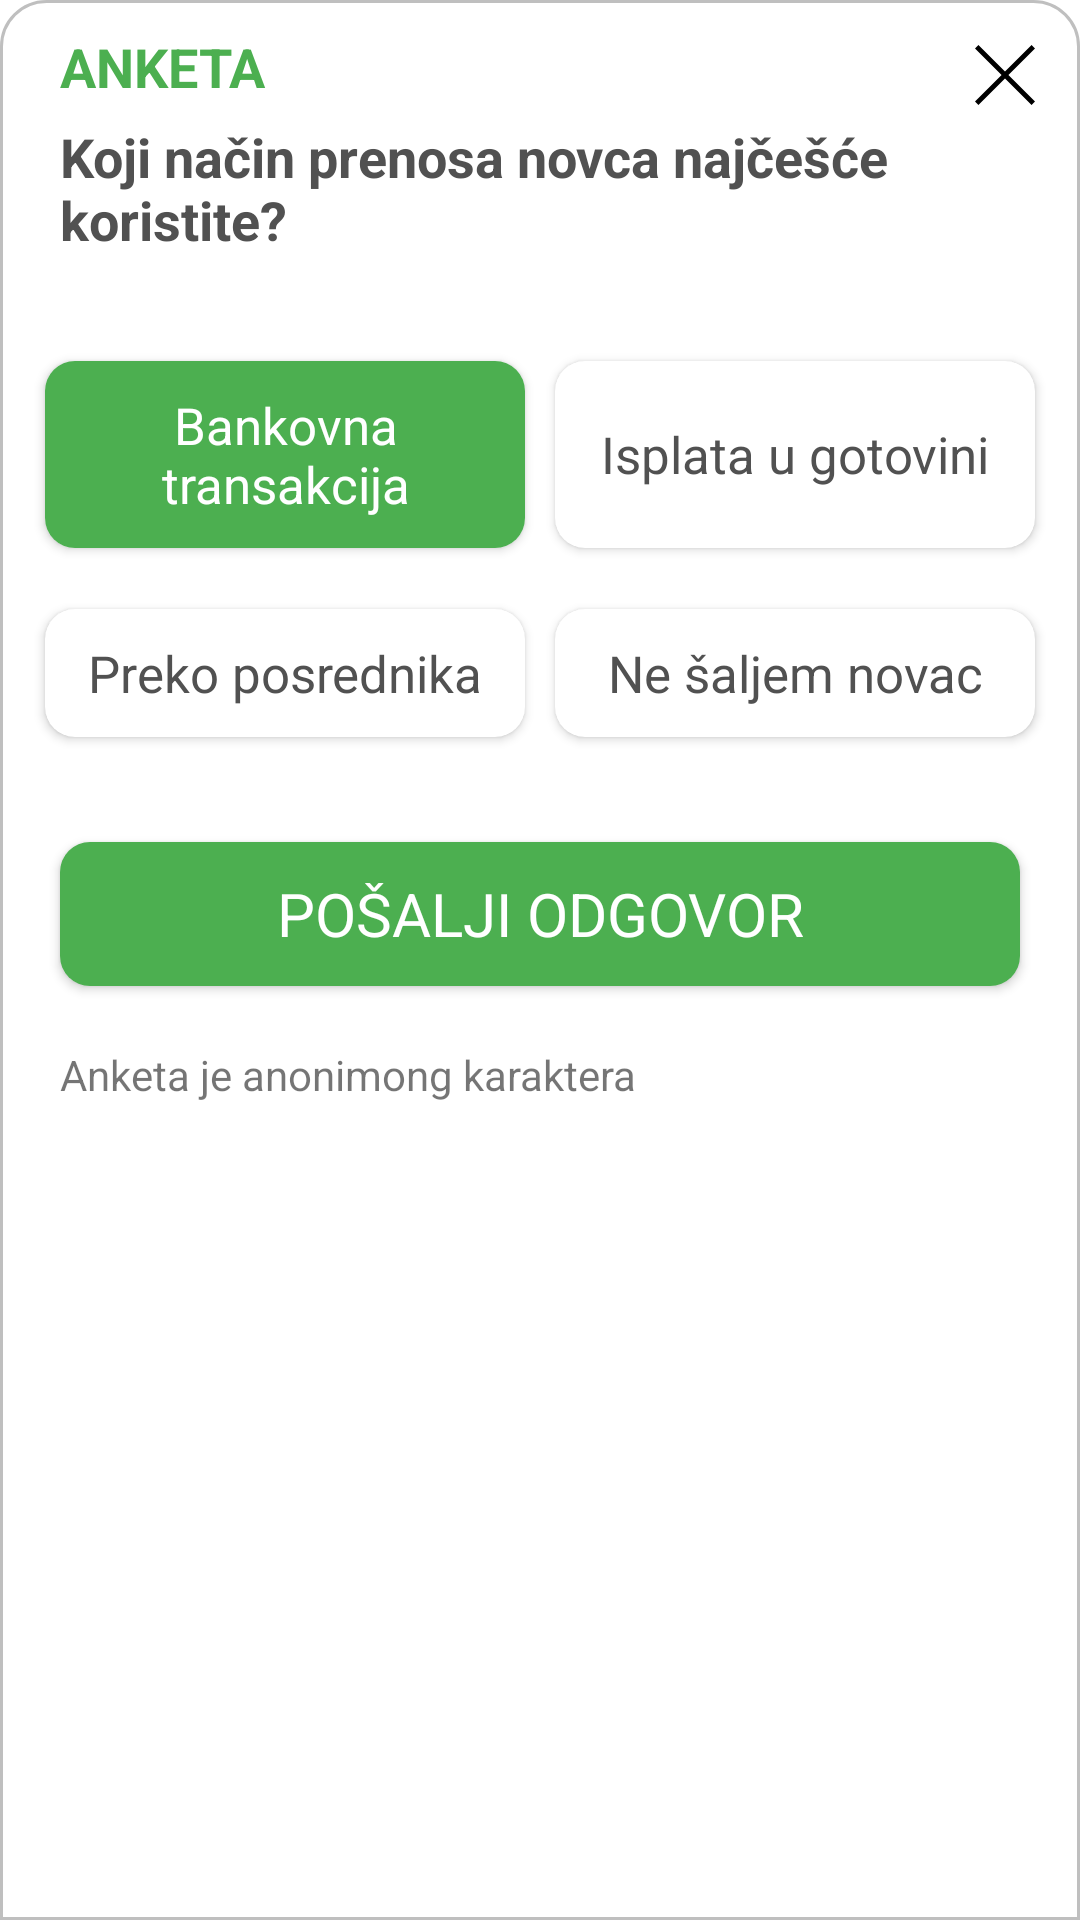

Icon bounding boxes for this 1080w x 1920h phone screenshot, format bbox=(x1, y1, x2, y2):
close: bbox=(975, 45, 1035, 105)
